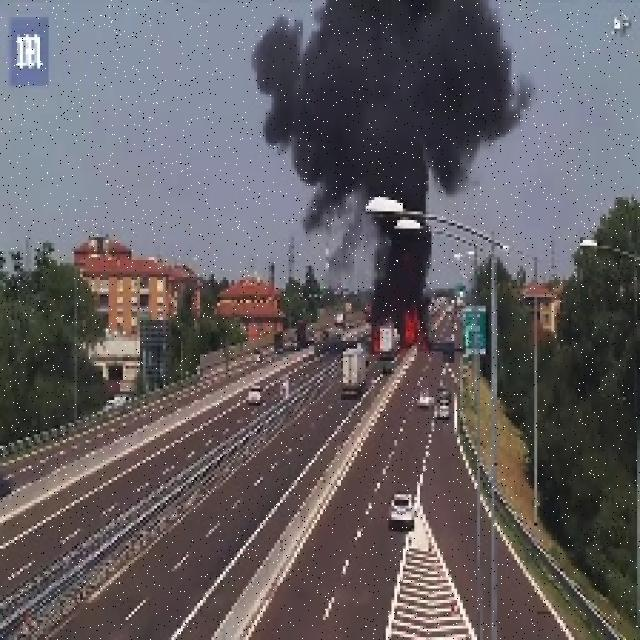fire: (381, 306, 428, 345)
smoke: (243, 0, 536, 298)
